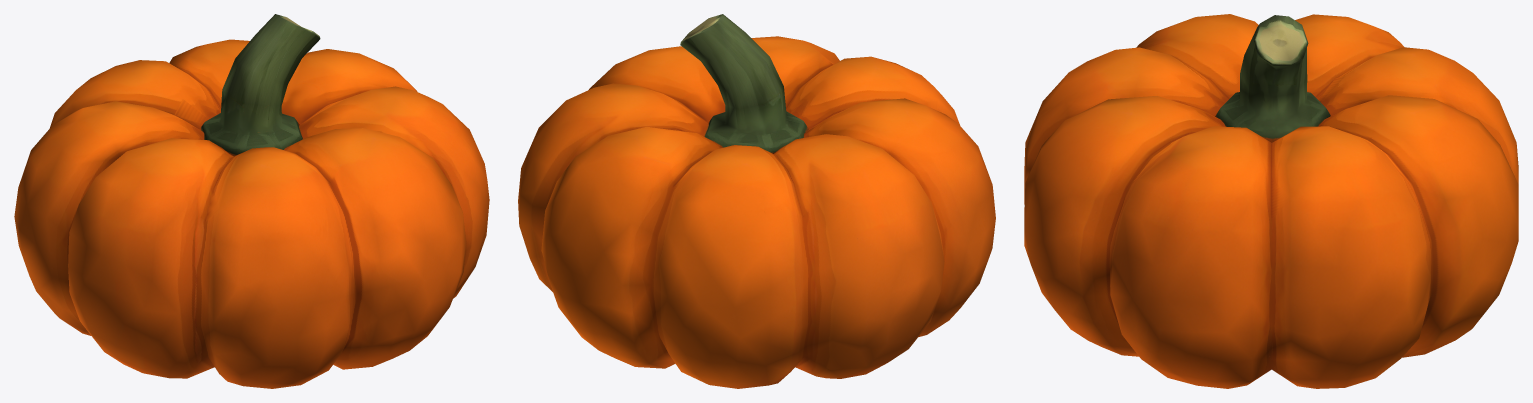
The model's file is Pumpkin.fbx.
The picture shows the model from 3 angles, left to right: view 1: azimuth 30°, elevation 25°; view 2: azimuth 150°, elevation 25°; view 3: azimuth 270°, elevation 25°; orthographic projection. The views are drawn at different scales.
Visible parts, largest first — view 1: mesh_node; view 2: mesh_node; view 3: mesh_node.
Part boxes in pixels (bbox=[...]): mesh_node: bbox=[14, 14, 489, 388]; mesh_node: bbox=[518, 14, 995, 388]; mesh_node: bbox=[1024, 14, 1518, 388].
Bounding box in the file's own units: 100 × 73.24 × 100.
Materials: 1 (1 with a texture image).
